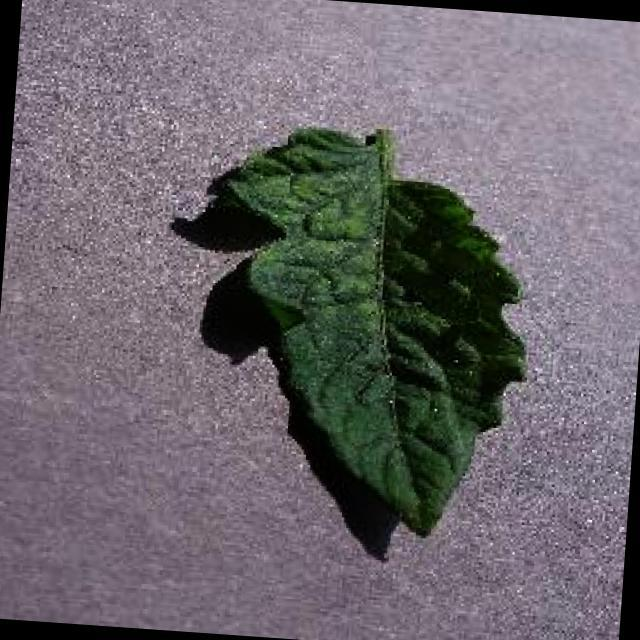Tomato mosaic virus leaf: (195, 116, 545, 547)
